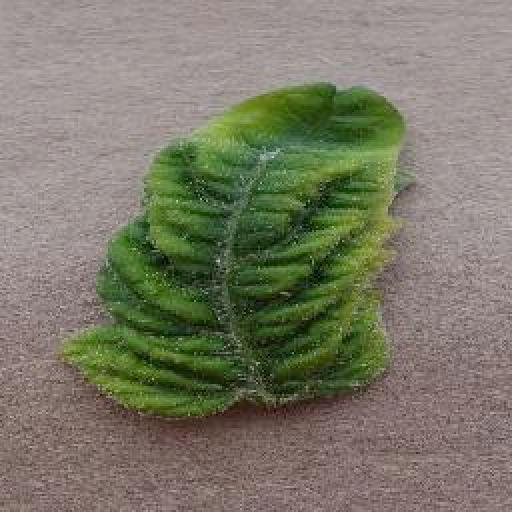disease_tomato: (58, 78, 410, 420)
